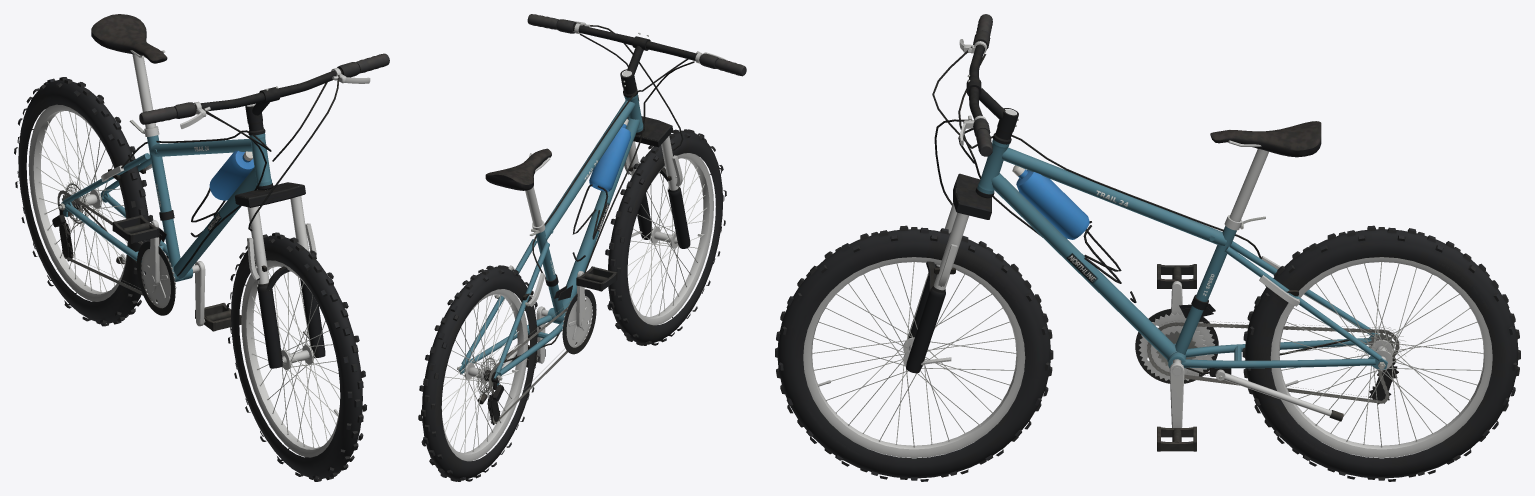
Rendered from bike.sam.glb.
The picture shows the model from 3 angles, left to right: view 1: azimuth 30°, elevation 25°; view 2: azimuth 150°, elevation 25°; view 3: azimuth 270°, elevation 25°; orthographic projection. The views are drawn at different scales.
Visible parts, largest first — view 1: bike.sam:wheel_front, bike.sam:wheel_rear, bike.sam:frame, bike.sam:steer, bike.sam:crank, bike.sam:pedal_r, bike.sam:chain, bike.sam:pedal_l; view 2: bike.sam:wheel_rear, bike.sam:frame, bike.sam:wheel_front, bike.sam:steer, bike.sam:crank, bike.sam:chain, bike.sam:pedal_r; view 3: bike.sam:wheel_front, bike.sam:wheel_rear, bike.sam:frame, bike.sam:steer, bike.sam:crank, bike.sam:chain, bike.sam:kickstand, bike.sam:pedal_l, bike.sam:pedal_r.
Part boxes in pixels (bbox=[...]): bike.sam:wheel_front: bbox=[226, 232, 366, 481]; bike.sam:wheel_rear: bbox=[14, 77, 153, 326]; bike.sam:frame: bbox=[52, 14, 273, 281]; bike.sam:steer: bbox=[139, 53, 389, 368]; bike.sam:crank: bbox=[136, 220, 205, 326]; bike.sam:pedal_r: bbox=[112, 215, 159, 243]; bike.sam:chain: bbox=[57, 189, 176, 302]; bike.sam:pedal_l: bbox=[195, 303, 241, 331]; bike.sam:wheel_rear: bbox=[418, 265, 540, 481]; bike.sam:frame: bbox=[457, 88, 645, 424]; bike.sam:wheel_front: bbox=[605, 129, 726, 345]; bike.sam:steer: bbox=[527, 14, 746, 248]; bike.sam:crank: bbox=[536, 271, 596, 363]; bike.sam:chain: bbox=[485, 299, 588, 423]; bike.sam:pedal_r: bbox=[576, 266, 617, 291]; bike.sam:wheel_front: bbox=[775, 225, 1053, 481]; bike.sam:wheel_rear: bbox=[1242, 225, 1520, 481]; bike.sam:frame: bbox=[972, 121, 1398, 404]; bike.sam:steer: bbox=[906, 14, 1018, 373]; bike.sam:crank: bbox=[1135, 281, 1218, 427]; bike.sam:chain: bbox=[1147, 321, 1399, 403]; bike.sam:kickstand: bbox=[1215, 369, 1343, 421]; bike.sam:pedal_l: bbox=[1157, 426, 1196, 451]; bike.sam:pedal_r: bbox=[1157, 264, 1196, 288].
Size of what is drawn, in the model's own units: 0.7183 by 1.02 by 1.71.
3 materials, 3 textured.
